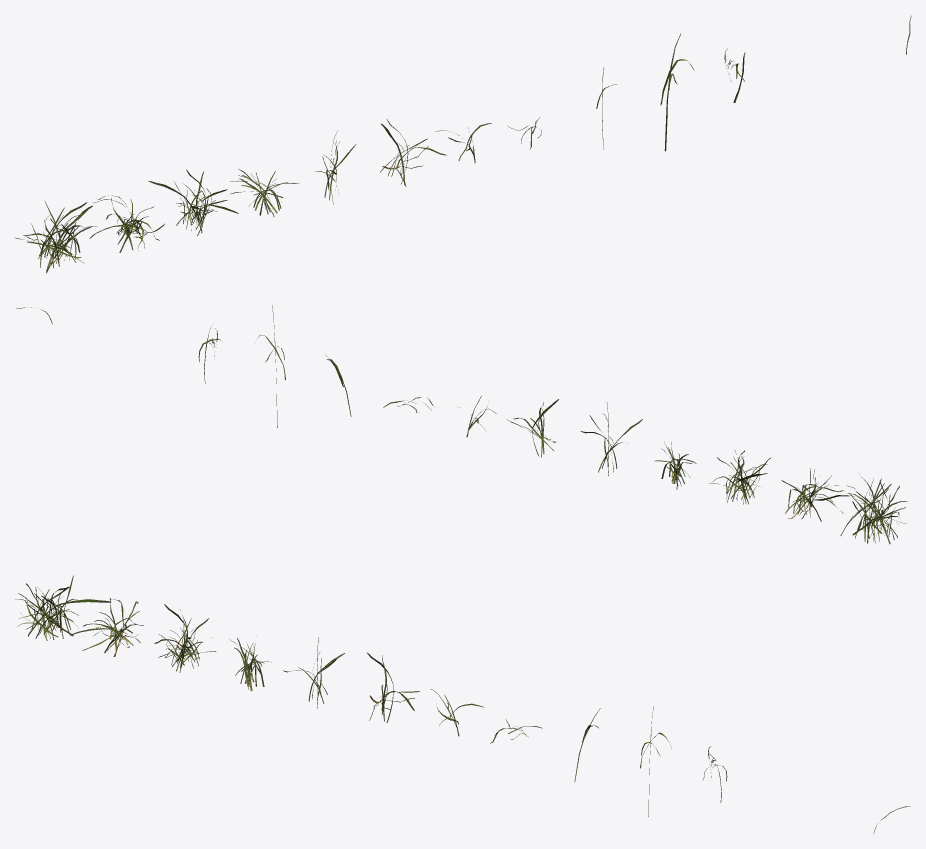
File: grass_tall.glb
The picture shows the model from 3 angles, top to bottom: view 1: azimuth 30°, elevation 25°; view 2: azimuth 150°, elevation 25°; view 3: azimuth 330°, elevation 25°; orthographic projection.
Parts seen in each view (by area): view 1: grass_medium_01_small_a_LOD0; view 2: grass_medium_01_small_a_LOD0; view 3: grass_medium_01_small_a_LOD0.
Part boxes in pixels (x1,y1,x2,y2): grass_medium_01_small_a_LOD0: (14,15,911,273); grass_medium_01_small_a_LOD0: (16,305,907,544); grass_medium_01_small_a_LOD0: (15,575,910,833).
Size of the model in its own units: 4.63 by 0.5997 by 0.4634.
1 material, 1 textured.
